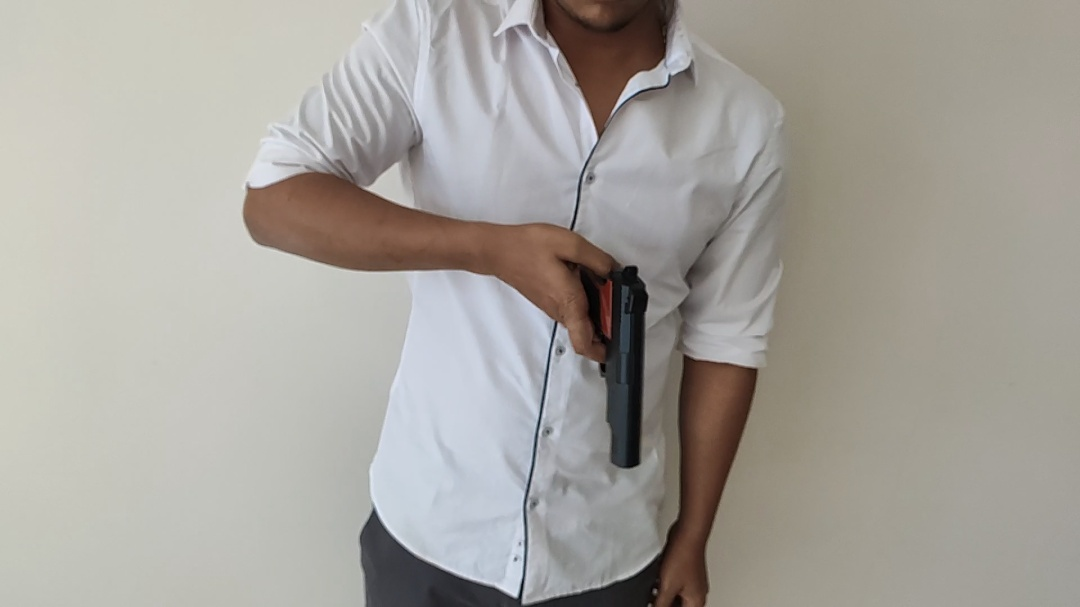gun: (570, 265, 648, 466)
